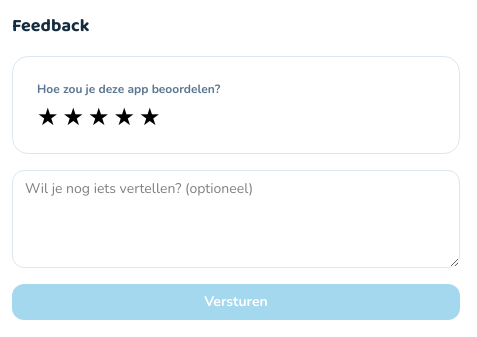
Test: Feedback › child role › submit is disabled until a rating is given, but no message is required
The width and height of the screenshot is (477, 337).
Expected: the button "Versturen" is disabled, x1=12 y1=284 x2=460 y2=320
Click the button named "5 van de 5 sterren" at (150, 117), box x1=139 y1=105 x2=161 y2=129
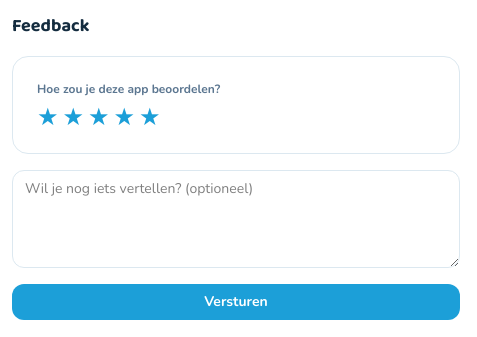
Expected: the button "Versturen" is enabled, x1=12 y1=284 x2=460 y2=320
